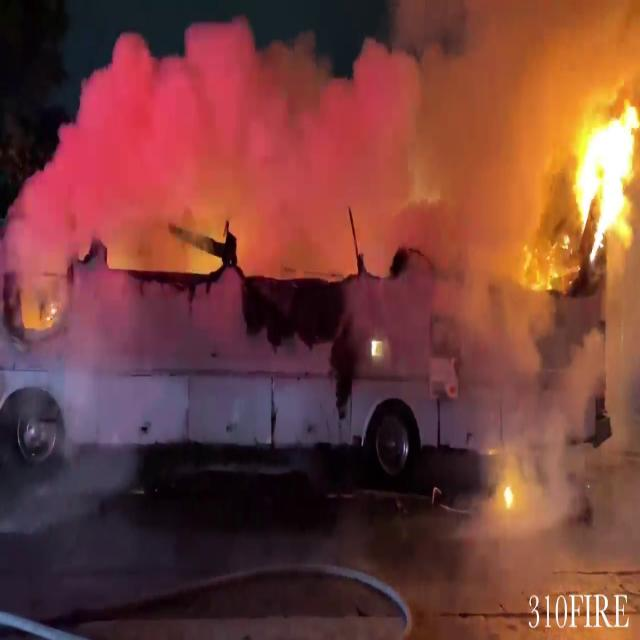Fire: (559, 96, 640, 245)
Smoke: (2, 18, 580, 278)
